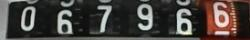digits: (175, 8, 193, 34), (136, 3, 153, 30), (96, 4, 112, 32), (212, 1, 229, 26), (20, 5, 36, 30), (57, 9, 73, 34)
